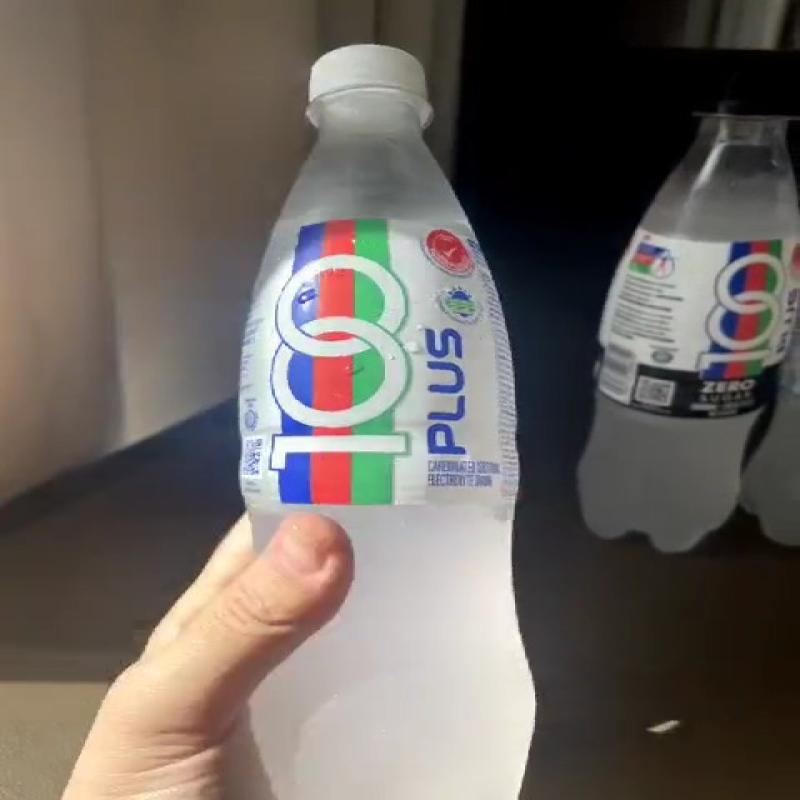botella: (231, 28, 522, 800), (585, 57, 800, 552)
